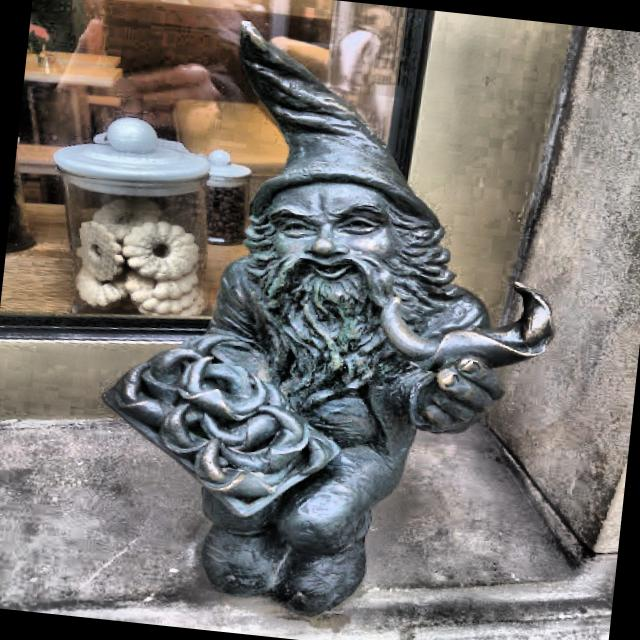Rogalik: (101, 21, 552, 618)
